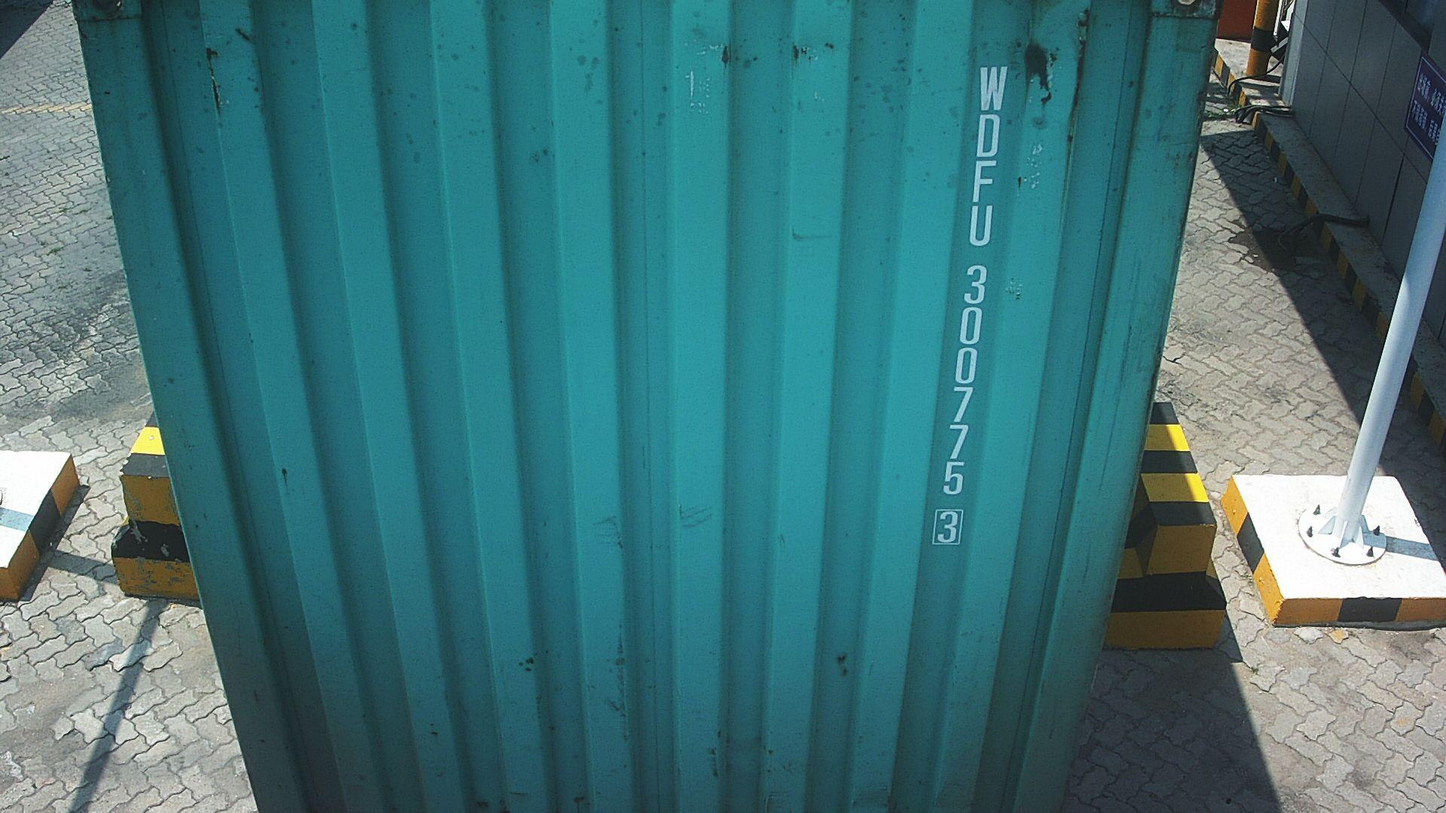container-numbers: (927, 58, 1014, 552)
